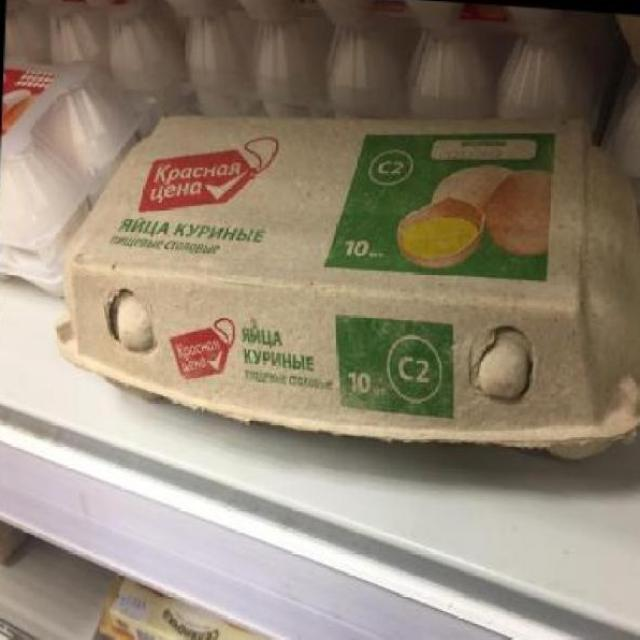Egg: (51, 93, 640, 469), (0, 52, 136, 289)
